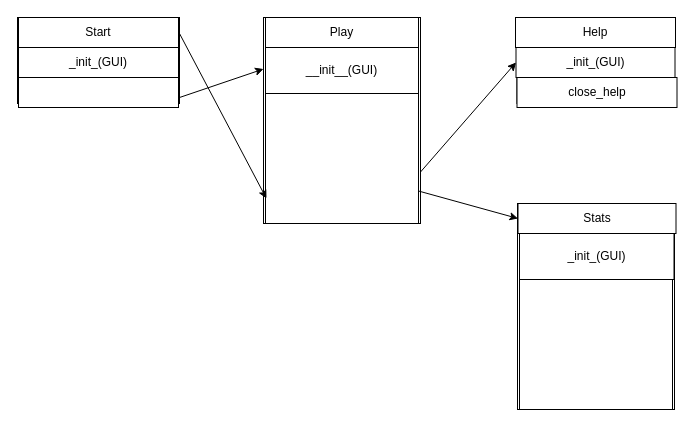
Image size: 695x427. Some labels were removed from this diagram. The centre of each missing label's shape, as x and y in pixels:
find_best find_worst find_average close_stats: the point at 595,344
new_round to_help to_stats new_game: the point at 341,158
to_play: the point at 98,92
